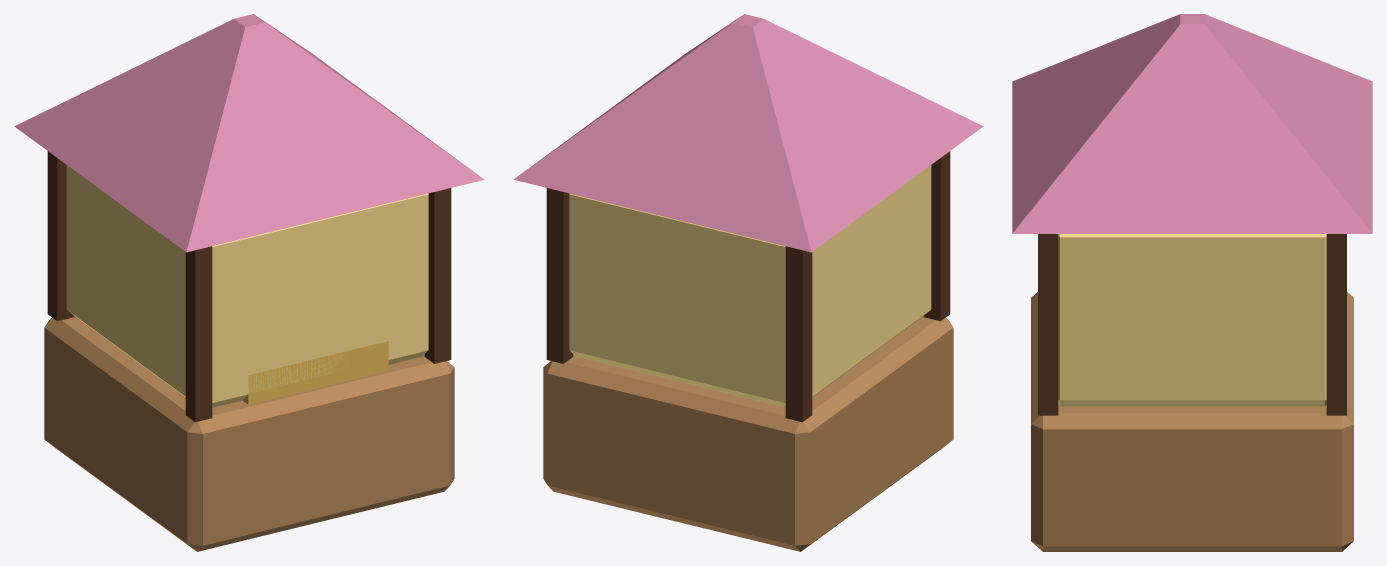
Rendered from prop_kiosk.glb.
The picture shows the model from 3 angles, left to right: view 1: azimuth 30°, elevation 25°; view 2: azimuth 150°, elevation 25°; view 3: azimuth 270°, elevation 25°; orthographic projection. The views are drawn at different scales.
Visible parts, largest first — view 1: prop_kiosk; view 2: prop_kiosk; view 3: prop_kiosk.
Part boxes in pixels (x1,y1,x2,y2): prop_kiosk: (14, 14, 484, 551); prop_kiosk: (513, 14, 983, 551); prop_kiosk: (1012, 14, 1372, 551).
Bounding box in the file's own units: 2.12 × 3.05 × 2.12.
1 material, 1 textured.
